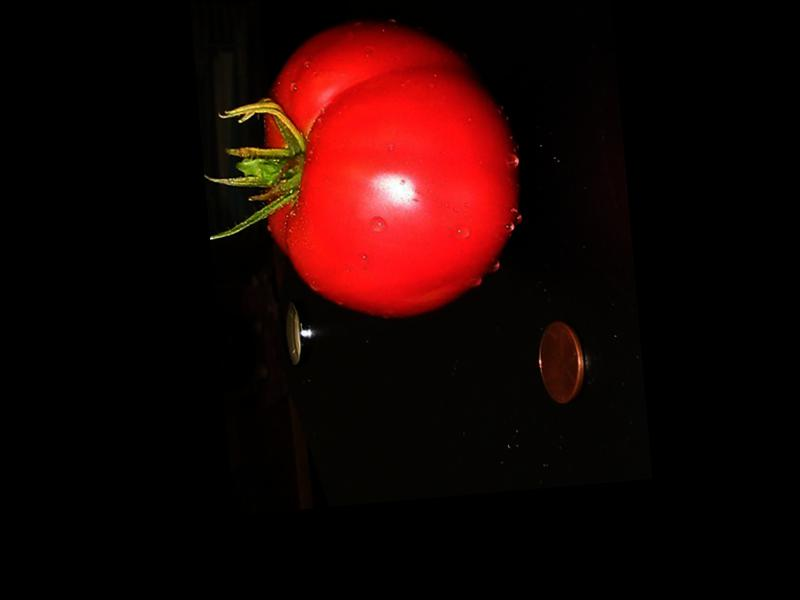Tomato: (249, 5, 532, 327)
